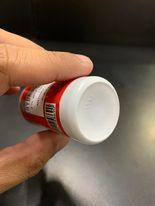-Bottle-: (18, 76, 121, 146)
